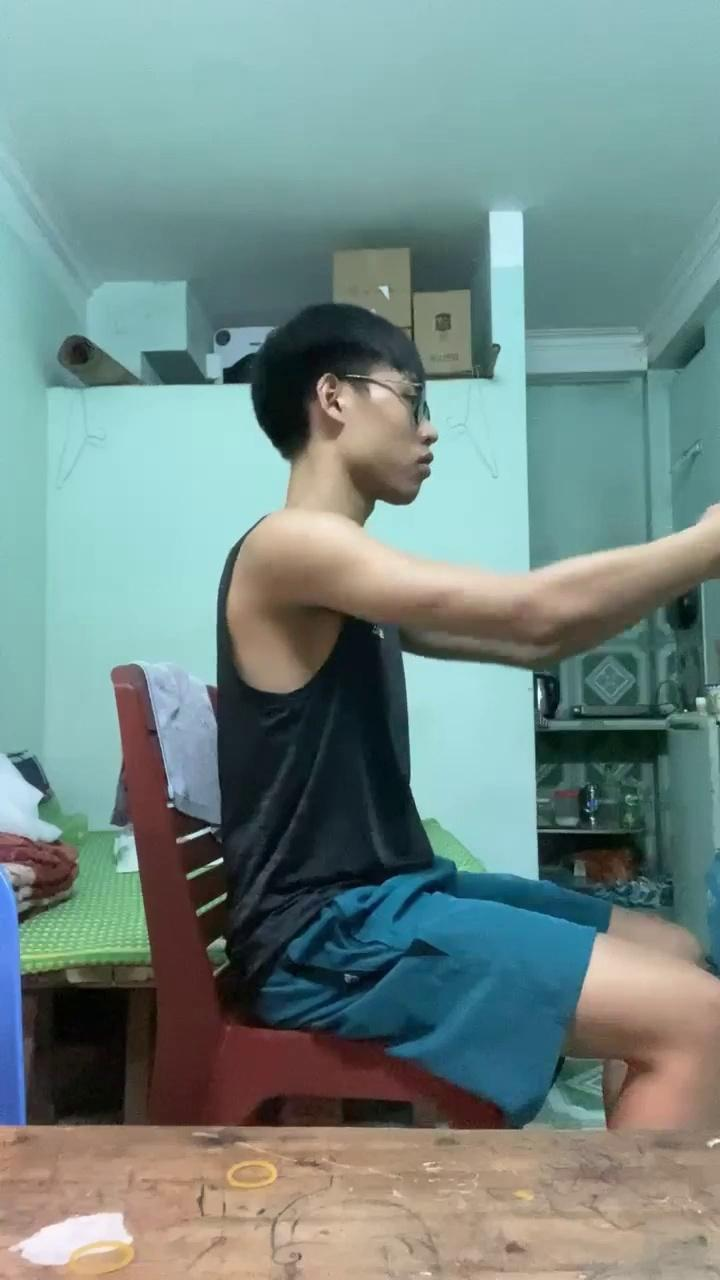GoodPosture: (217, 303, 719, 1129)
